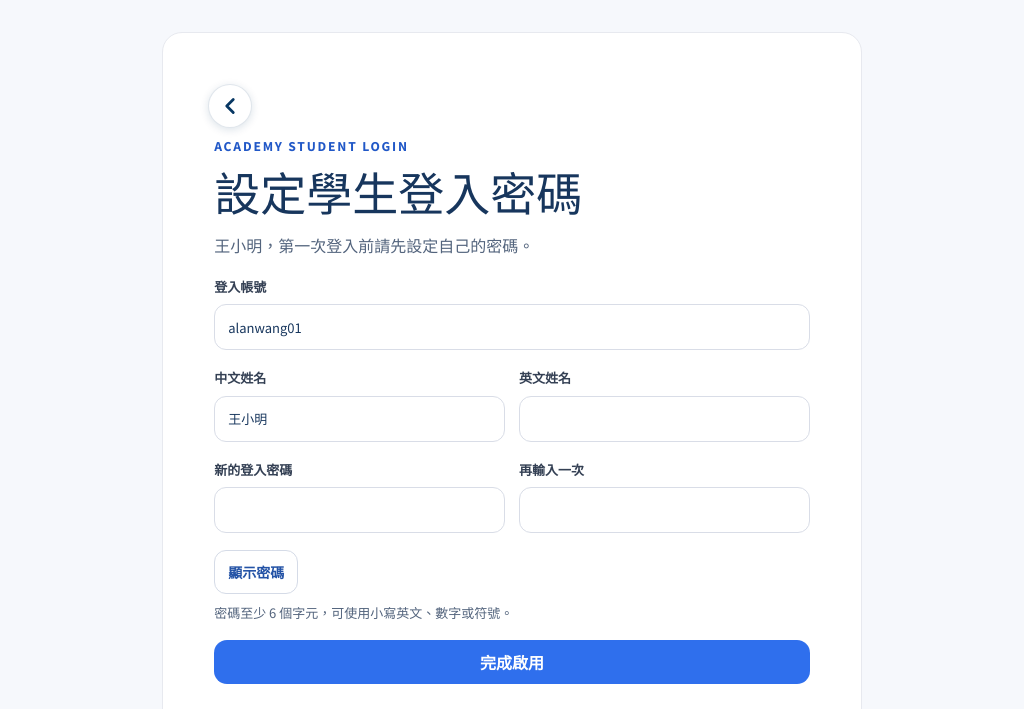
AcademyStudentSetup › requires both Chinese and English names during first activation
Type "green7" into the password field labelled "新的登入密碼".
click(360, 510); type("green7")  # box [214,487,505,533]
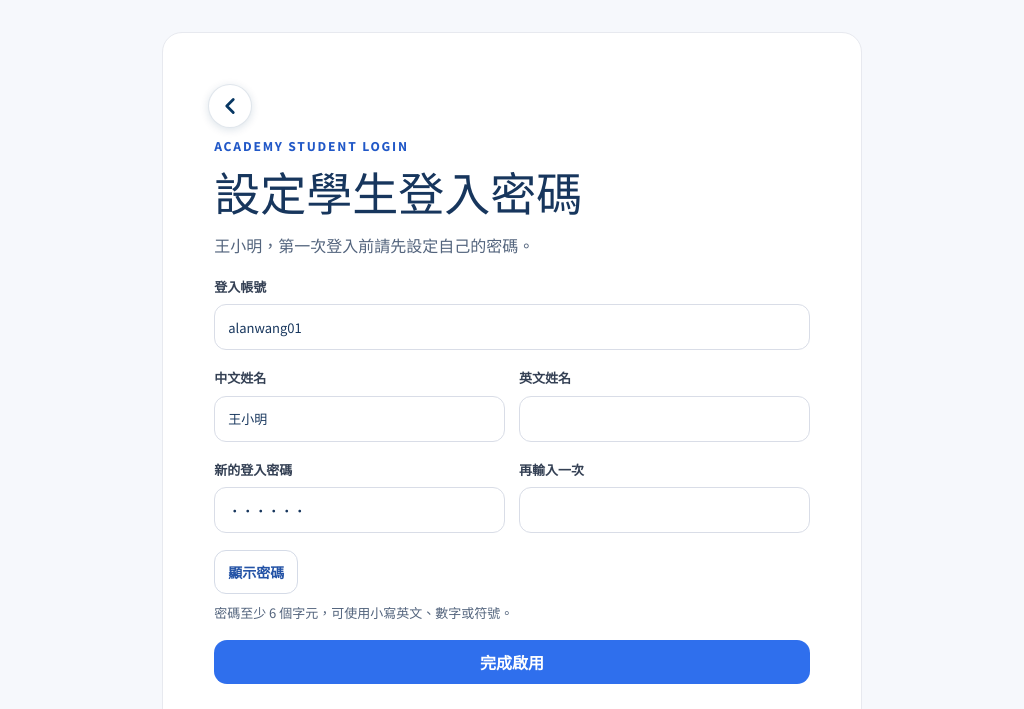
Type "green7" into the password field labelled "再輸入一次".
click(664, 510); type("green7")  # box [519,487,810,533]
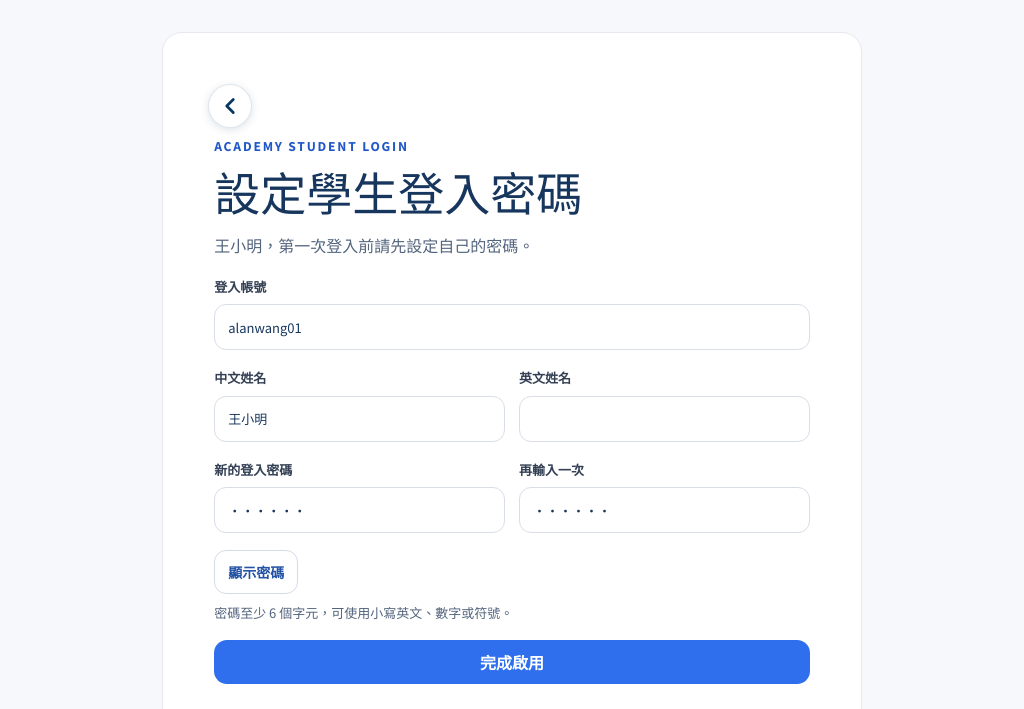
Submit the form "完成啟用", box [214,276,810,684]
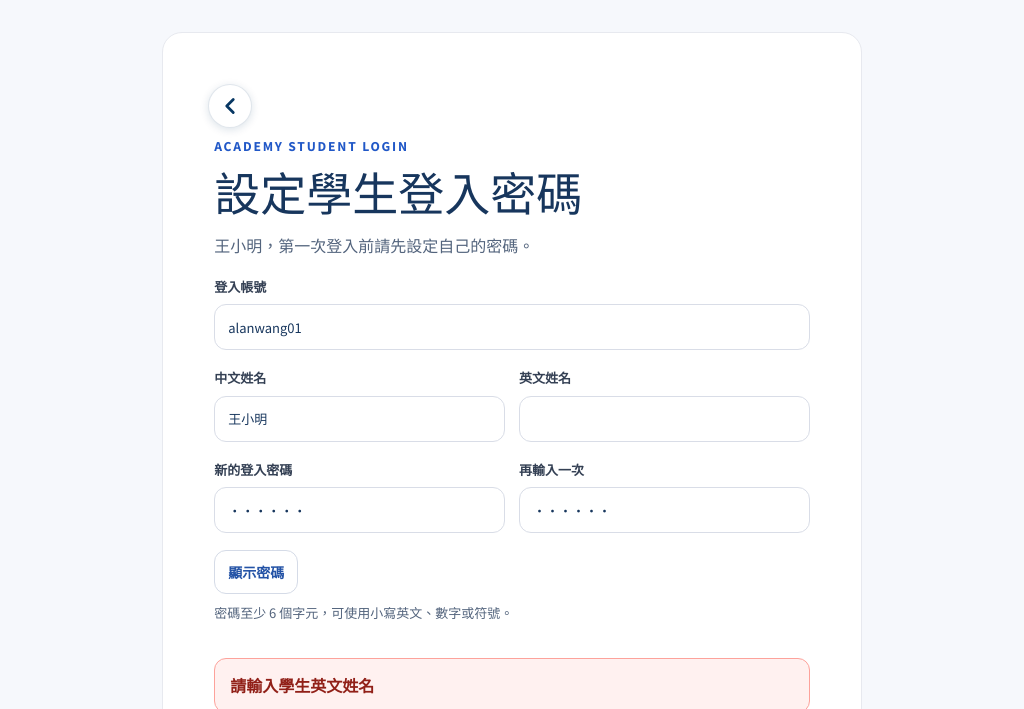
expect the message reads "請輸入學生英文姓名": met, box [230,673,374,697]
